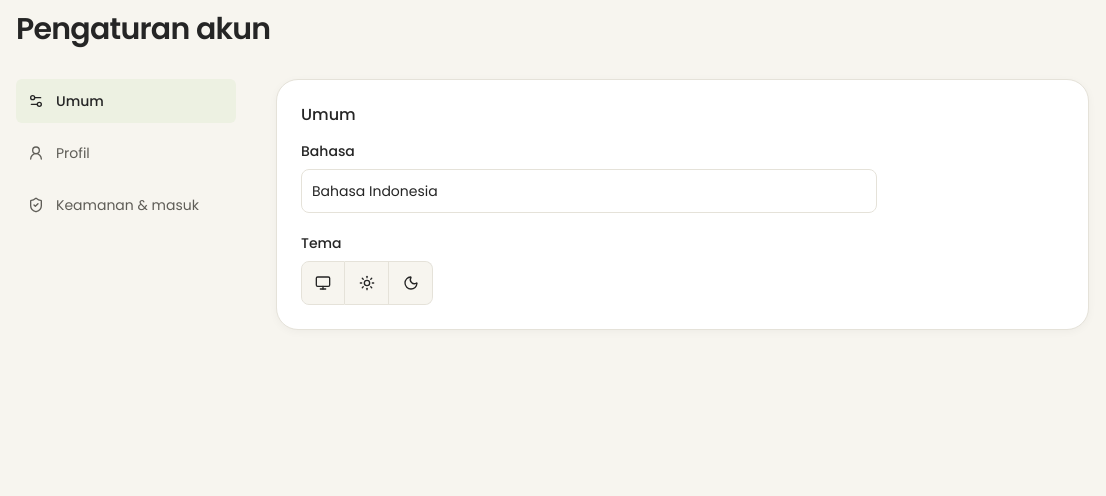
Test: PengaturanPetugasPage › menampilkan profil petugas setelah pemeriksaan akses
Click the button "Profil".
click(126, 153)  # box [16, 131, 236, 175]
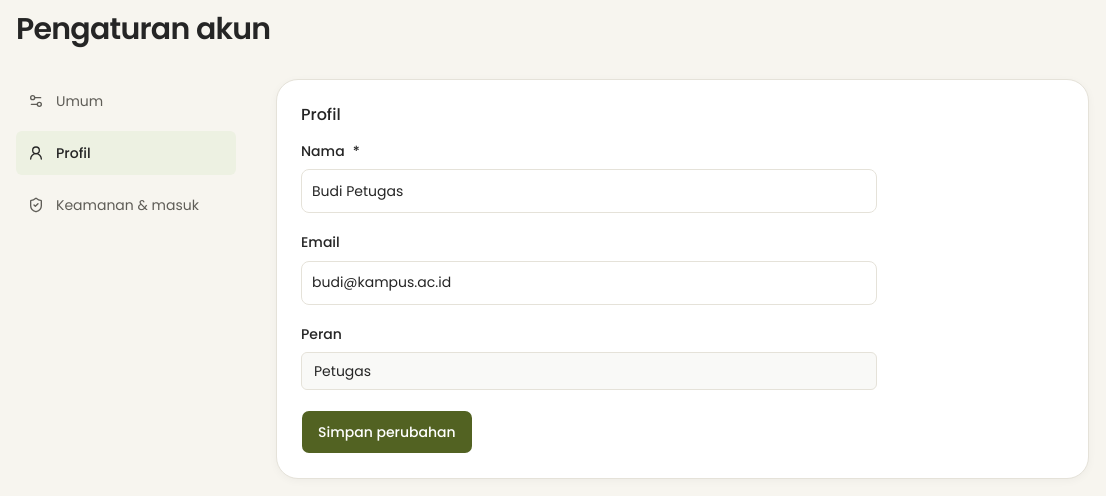
Expected: the field labelled "Nama *" holds "Budi Petugas", [301, 169, 877, 213]
Expected: the text "Petugas" is shown, [301, 352, 877, 390]
